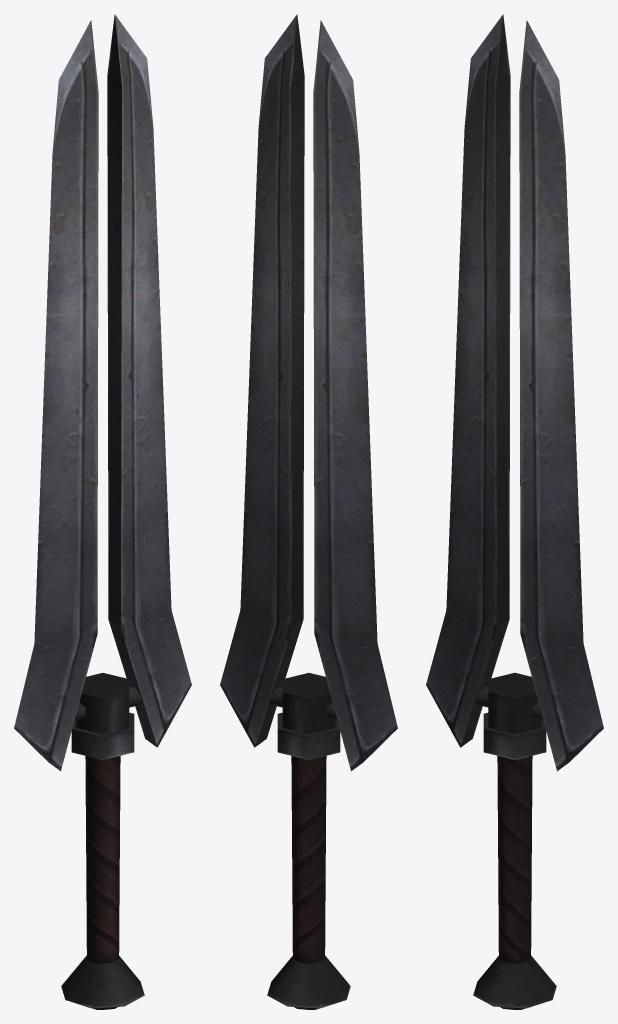
File: 33_weapon.FBX
3 views of the same model, side by side, from view 1: azimuth 30°, elevation 25°; view 2: azimuth 150°, elevation 25°; view 3: azimuth 330°, elevation 25° (orthographic).
Parts seen in each view (by area): view 1: 33_sword; view 2: 33_sword; view 3: 33_sword.
Boxes of the visible parts, x1,y1,x2,y2 form: 33_sword: (14,14,191,1009); 33_sword: (220,14,397,1009); 33_sword: (426,14,603,1009).
Size of the model in its own units: 719 by 3836 by 301.
